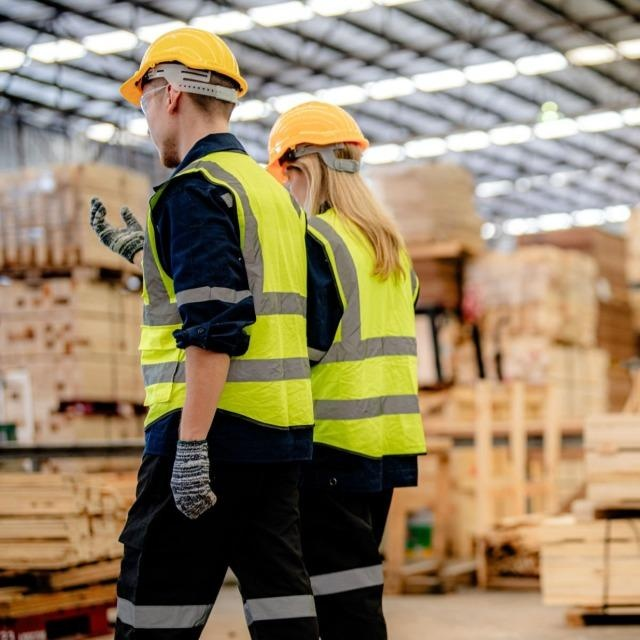Con_Chaleco: (142, 153, 314, 431), (307, 202, 424, 456)
